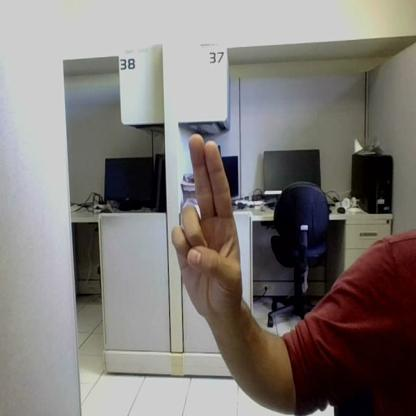U: (172, 135, 241, 310)
